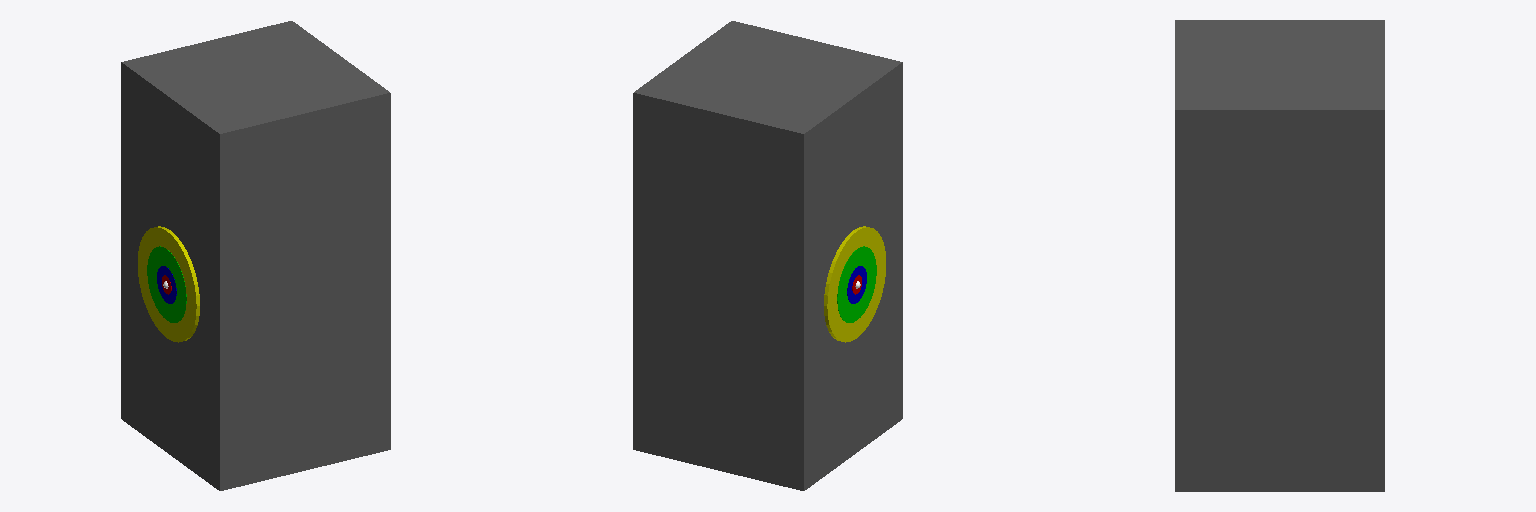
robot.urdf — simple_box:
<?xml version="1.0"?>
<robot name="simple_box">
	<material name="white">
		<color rgba="1 1 1 1"/>
	</material>
	
	<material name="white_clear">
		<color rgba="1 1 1 0.1"/>
	</material>

	<material name="blue">
		<color rgba= "0 0 0.8 1"/>
	</material>

	<material name="red">
		<color rgba="0.8 0 0 1"/>
	</material>

	<material name="green">
		<color rgba="0 0.8 0 1"/>
	</material>

	<material name="yellow">
		<color rgba="0.8 0.8 0 1"/>
	</material>

	<material name="cyan">
		<color rgba="0 0.8 0.8 0.8"/>
	</material>

	<material name="purple">
		<color rgba="0.8 0 0.8 1"/>
	</material>

	<material name="gray">
		<color rgba="0.4 0.4 0.4 1"/>
	</material>

	<material name="black">
		<color rgba="0 0 0 0.4"/>
	</material>

	<link name="world"/>

	<joint name="fixed" type="fixed">
		<parent link="world"/>
		<child link="base_link"/>
		<origin xyz="0 0 0"/>
	</joint>

	<link name="base_link">
		<inertial>
			<origin xyz="0 0 1" />
			<mass value="1.0" />
			<inertia  ixx="1.0" ixy="0.0"  ixz="0.0"  iyy="100.0"  iyz="0.0"  izz="1.0" />
		</inertial>
		<visual>
			<origin xyz="0 0 1"/>
			<geometry>
				<box size="1 1 2" />
			</geometry>
			<material name="gray"/>
		</visual>
		<collision>
			<origin xyz="0 0 0.25"/>
			<geometry>
				<box size="1 1 0.5" />
			</geometry>
		</collision>
	</link>

	<joint name="joint_button" type="fixed">
		<parent link="base_link"/>
		<child link="button"/>
		<origin xyz="-0.50 0 0.96"/>
	</joint>

	<link name="button">
		<inertial>
			<origin xyz="0 0 0" />
			<mass value="1.0" />
			<inertia  ixx="1.0" ixy="0.0"  ixz="0.0"  iyy="100.0"  iyz="0.0"  izz="1.0" />
		</inertial>
		<visual>
			<origin xyz="0 0 0" rpy="0 1.57075 0"/>
			<geometry>
				<cylinder length="0.05" radius="0.02" />
			</geometry>
			<material name="white"/>
		</visual>
		<!--collision>
			<origin xyz="0 0 0" rpy="0 1.57075 0"/>
			<geometry>
				<box size="1 1 2" />
			</geometry>
		</collision-->
	</link>

	<joint name="joint_sphere" type="fixed">
		<parent link="button"/>
		<child link="sphere"/>
		<origin xyz="-0.020 0 0"/>
	</joint>

	<link name="sphere">
		<inertial>
			<origin xyz="0 0 0" />
			<mass value="1.0" />
			<inertia  ixx="1.0" ixy="0.0"  ixz="0.0"  iyy="100.0"  iyz="0.0"  izz="1.0" />
		</inertial>
		<visual>
			<origin xyz="0 0 0" rpy="0 0 0"/>
			<geometry>
				<sphere radius="0.02"/>
			</geometry>
			<material name="white_clear"/>
		</visual>
		<!--collision>
			<origin xyz="0 0 0" rpy="0 1.57075 0"/>
			<geometry>
				<box size="1 1 2" />
			</geometry>
		</collision -->
	</link>

	<joint name="joint_circle1" type="fixed">
		<parent link="base_link"/>
		<child link="circle1"/>
		<origin xyz="-0.499 0 0.96"/>
	</joint>

	<link name="circle1">
		<inertial>
			<origin xyz="0 0 0" />
			<mass value="1.0" />
			<inertia  ixx="1.0" ixy="0.0"  ixz="0.0"  iyy="100.0"  iyz="0.0"  izz="1.0" />
		</inertial>
		<visual>
			<origin xyz="0 0 0" rpy="0 1.57075 0"/>
			<geometry>
				<cylinder length="0.05" radius="0.05" />
			</geometry>
			<material name="red"/>
		</visual>
		<!--collision>
			<origin xyz="0 0 0" rpy="0 1.57075 0"/>
			<geometry>
				<box size="1 1 2" />
			</geometry>
		</collision-->
	</link>

	<joint name="joint_circle2" type="fixed">
		<parent link="base_link"/>
		<child link="circle2"/>
		<origin xyz="-0.498 0 0.96"/>
	</joint>

	<link name="circle2">
		<inertial>
			<origin xyz="0 0 0" />
			<mass value="1.0" />
			<inertia  ixx="1.0" ixy="0.0"  ixz="0.0"  iyy="100.0"  iyz="0.0"  izz="1.0" />
		</inertial>
		<visual>
			<origin xyz="0 0 0" rpy="0 1.57075 0"/>
			<geometry>
				<cylinder length="0.05" radius="0.1" />
			</geometry>
			<material name="blue"/>
		</visual>
		<!--collision>
			<origin xyz="0 0 0" rpy="0 1.57075 0"/>
			<geometry>
				<box size="1 1 2" />
			</geometry>
		</collision-->
	</link>

	<joint name="joint_circle3" type="fixed">
		<parent link="base_link"/>
		<child link="circle3"/>
		<origin xyz="-0.497 0 0.96"/>
	</joint>

	<link name="circle3">
		<inertial>
			<origin xyz="0 0 0" />
			<mass value="1.0" />
			<inertia  ixx="1.0" ixy="0.0"  ixz="0.0"  iyy="100.0"  iyz="0.0"  izz="1.0" />
		</inertial>
		<visual>
			<origin xyz="0 0 0" rpy="0 1.57075 0"/>
			<geometry>
				<cylinder length="0.05" radius="0.2" />
			</geometry>
			<material name="green"/>
		</visual>
		<!--collision>
			<origin xyz="0 0 0" rpy="0 1.57075 0"/>
			<geometry>
				<box size="1 1 2" />
			</geometry>
		</collision-->
	</link>
	
	<joint name="joint_circle4" type="fixed">
		<parent link="base_link"/>
		<child link="circle4"/>
		<origin xyz="-0.496 0 0.96"/>
	</joint>

	<link name="circle4">
		<inertial>
			<origin xyz="0 0 0" />
			<mass value="1.0" />
			<inertia  ixx="1.0" ixy="0.0"  ixz="0.0"  iyy="100.0"  iyz="0.0"  izz="1.0" />
		</inertial>
		<visual>
			<origin xyz="0 0 0" rpy="0 1.57075 0"/>
			<geometry>
				<cylinder length="0.05" radius="0.3" />
			</geometry>
			<material name="yellow"/>
		</visual>
		<!--collision>
			<origin xyz="0 0 0" rpy="0 1.57075 0"/>
			<geometry>
				<box size="1 1 2" />
			</geometry>
		</collision-->
	</link>


	<gazebo reference="base_link">
		<material>Gazebo/Grey</material>
		<mu1>1.0</mu1>
		<mu2>1.0</mu2>
	</gazebo>
	
	<gazebo reference="button">
		<!-- <material>Gazebo/White</material> -->
		<mu1>1.0</mu1>
		<mu2>1.0</mu2>
	</gazebo>

	<gazebo reference="circle1">
		<material>Gazebo/Red</material>
		<mu1>1.0</mu1>
		<mu2>1.0</mu2>
	</gazebo>
	<gazebo reference="circle2">
		<material>Gazebo/Blue</material>
		<mu1>1.0</mu1>
		<mu2>1.0</mu2>
	</gazebo>
	<gazebo reference="circle3">
		<material>Gazebo/Green</material>
		<mu1>1.0</mu1>
		<mu2>1.0</mu2>
	</gazebo>
	<gazebo reference="circle4">
		<material>Gazebo/Yellow</material>
		<mu1>1.0</mu1>
		<mu2>1.0</mu2>
	</gazebo>
</robot>

--- Render facts (derived) ---
The picture shows the robot from 3 angles, left to right: view 1: azimuth 30°, elevation 25°; view 2: azimuth 150°, elevation 25°; view 3: azimuth 270°, elevation 25°; orthographic projection.
Robot: simple_box — 8 links, 7 joints (7 fixed); root link world; default pose: every joint at zero.
Links seen in each view (by area): view 1: base_link, circle4, circle3; view 2: base_link, circle4, circle3; view 3: base_link.
Link boxes in pixels (x1,y1,x2,y2): base_link: [121, 21, 390, 490]; circle4: [138, 226, 199, 342]; circle3: [147, 246, 186, 322]; base_link: [633, 21, 902, 490]; circle4: [824, 226, 885, 342]; circle3: [837, 246, 876, 322]; base_link: [1175, 20, 1384, 491].
Size in the robot's own frame: 1.04 by 1 by 2 metres.
Geometry: primitives only (box / cylinder / sphere), no mesh files.